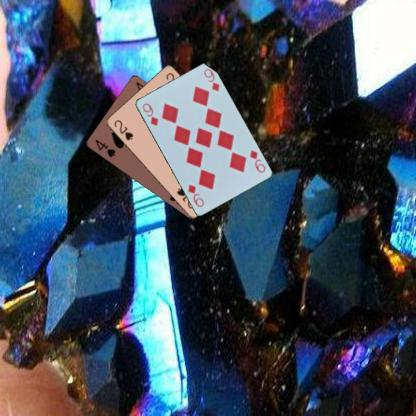2s: (111, 117, 135, 142)
4s: (92, 137, 117, 158)
9d: (247, 147, 266, 174), (140, 101, 159, 127)
